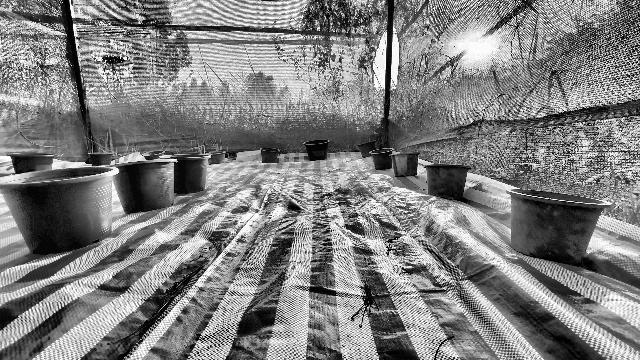pot: (0, 166, 119, 255), (505, 188, 611, 265), (109, 159, 176, 214), (159, 154, 213, 196), (422, 163, 472, 201), (389, 151, 421, 177), (304, 138, 330, 160), (368, 148, 394, 169), (356, 141, 377, 156)
